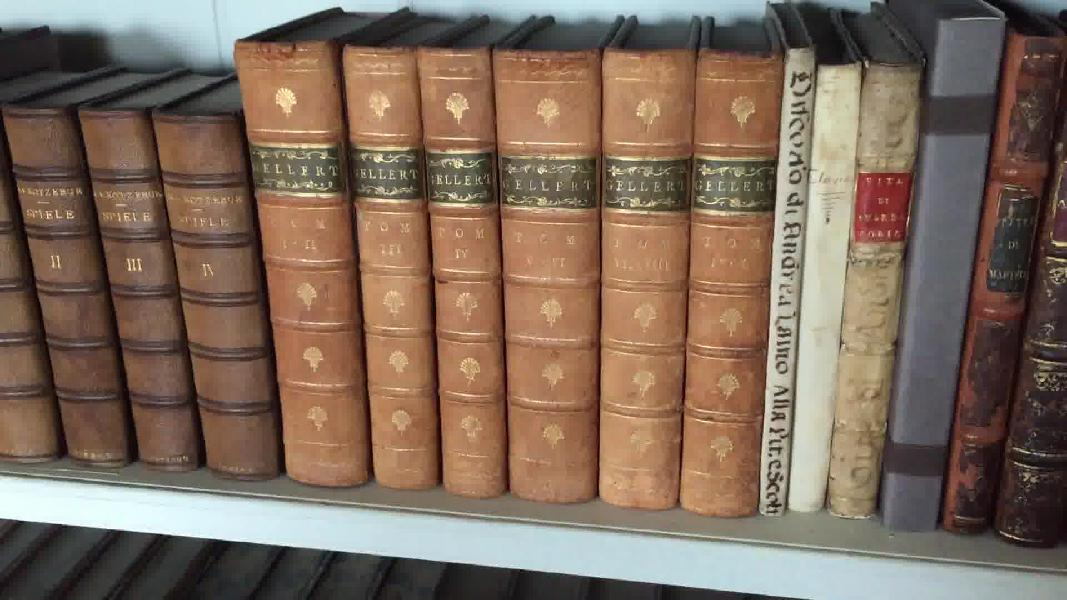Aa6-18_23: (221, 38, 779, 523)
Aa6-24: (758, 29, 817, 539)
Aa6-25: (782, 31, 858, 525)
Aa6-26: (823, 48, 917, 516)
Aa6-27: (885, 1, 996, 550)
Aa6-28: (945, 17, 1063, 551)
